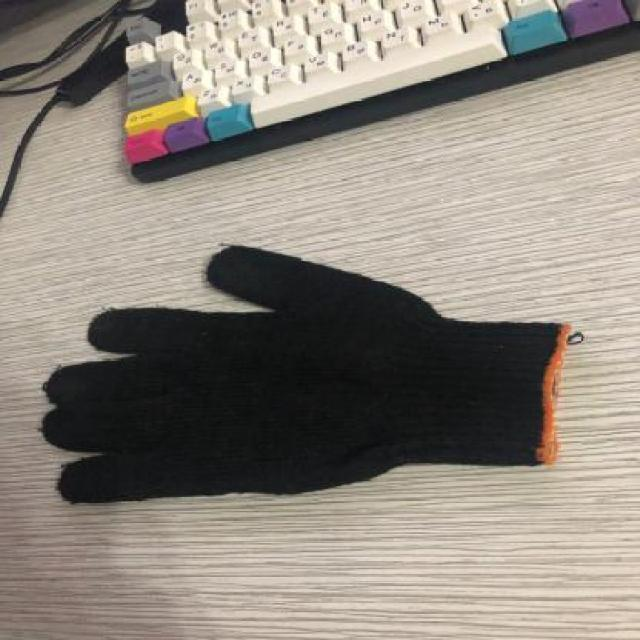Gloves: (39, 241, 570, 509)
